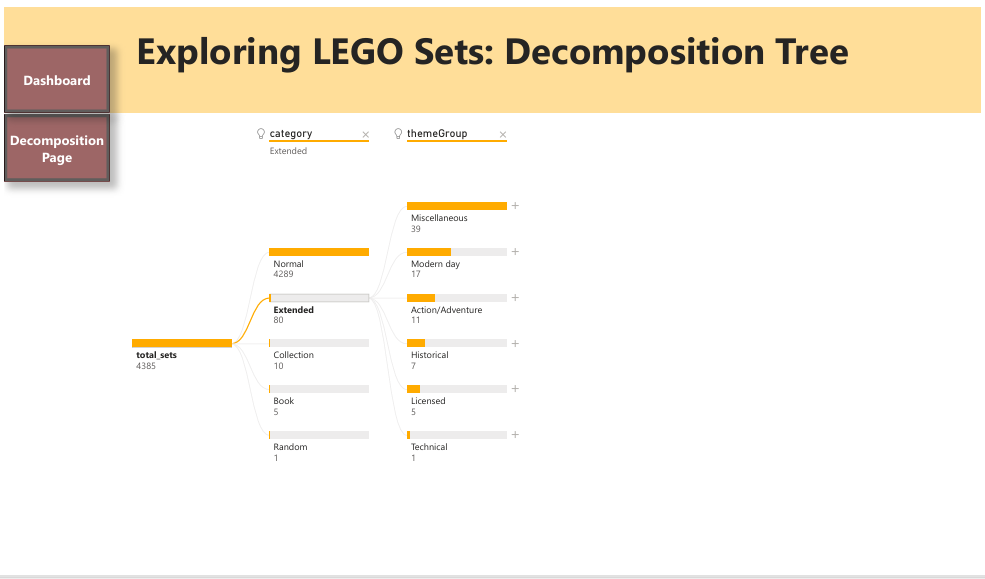

What the dashboard file says about the page in this screenshot:
{"tool":"powerbi","page":{"name":"Decomposition","canvas":[1280,720],"ordinal":2},"visuals":[{"type":"decompositionTreeVisual","fields":{"Analyze":["Lego Dataset.total_sets"],"ExplainBy":["Lego Dataset.category","Lego Dataset.themeGroup","Lego Dataset.name","Lego Dataset.theme"]},"box":[138,140,1142,580],"z":0},{"type":"textbox","box":[0,0,1280,138],"z":1000},{"type":"actionButton","box":[0,140,138,88],"z":1001},{"type":"actionButton","box":[0,50,138,88],"z":1002}]}

Visuals, with their boxes on the page's 1280x720 design canvas (x1, y1, x2, y2). These are canvas units, not pixel positions in the 985x579 screenshot, which may show the page scaled, cropped or inside an application window:
decompositionTreeVisual - Lego Dataset.total_sets x Lego Dataset.category: 138/140/1280/720
textbox: 0/0/1280/138
actionButton: 0/140/138/228
actionButton: 0/50/138/138
